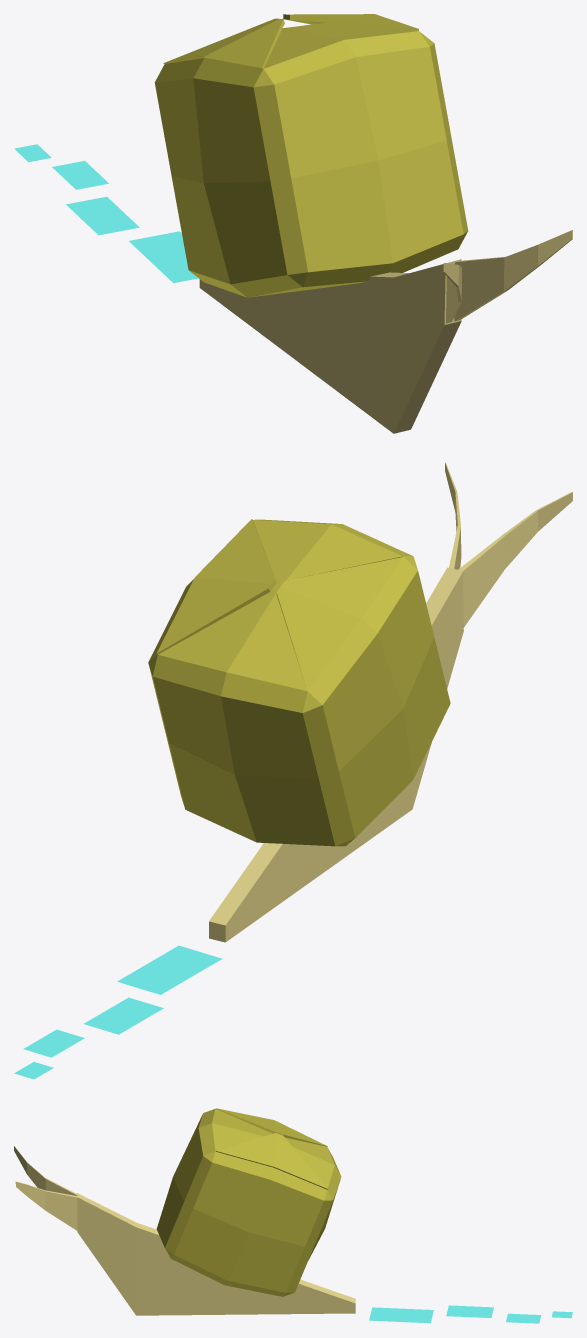
The model's file is SNAIL_MEDIUM.fbx.
3 renders of one model, top to bottom at view 1: azimuth 30°, elevation 25°; view 2: azimuth 150°, elevation 25°; view 3: azimuth 270°, elevation 25°, orthographic. The views are drawn at different scales.
Visible parts, largest first — view 1: ESCARGOT_1.001; view 2: ESCARGOT_1.001; view 3: ESCARGOT_1.001.
Part boxes in pixels (left/top/right/bottom): ESCARGOT_1.001: left=14, top=14, right=572, bottom=433; ESCARGOT_1.001: left=14, top=462, right=572, bottom=1079; ESCARGOT_1.001: left=14, top=1108, right=572, bottom=1323.
Bounding box in the file's own units: 101 × 153 × 403.
